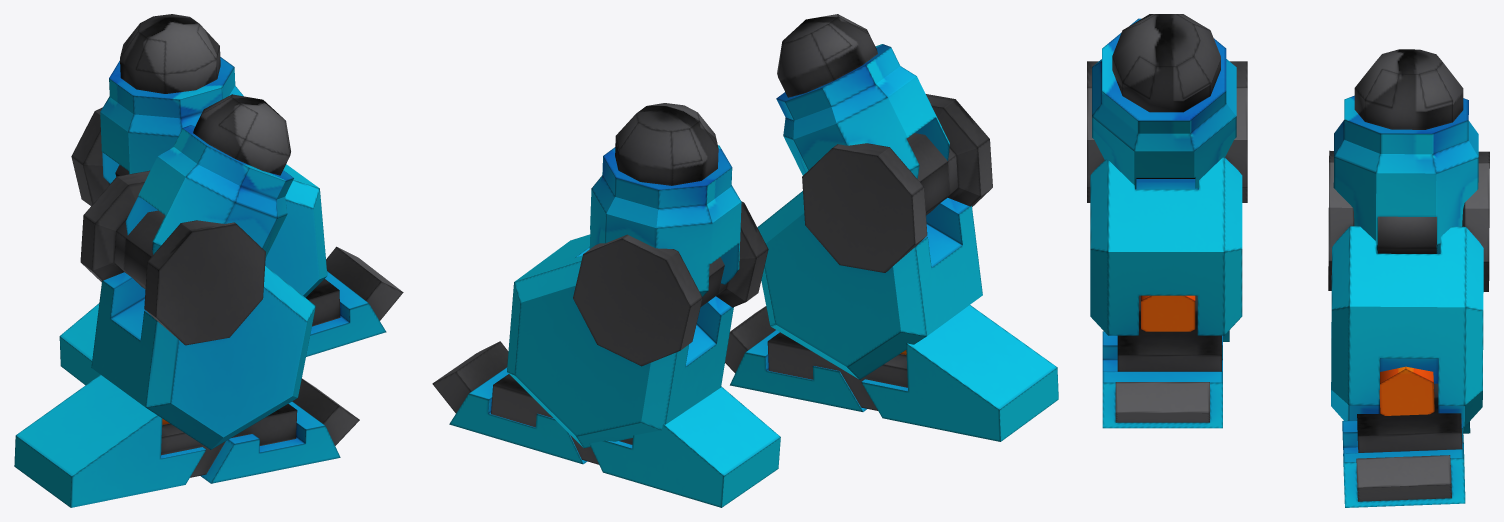
File: Bottom_Idle1.obj
The picture shows the model from 3 angles, left to right: view 1: azimuth 30°, elevation 25°; view 2: azimuth 150°, elevation 25°; view 3: azimuth 270°, elevation 25°; orthographic projection. The views are drawn at different scales.
Visible parts, largest first — view 1: Object013, Object014, Object012, Object009, Object011, Object010; view 2: Object013, Object010, Object014, Object011, Object009, Object012; view 3: Object010, Object013, Object009, Object012, Object014, Object011.
Boxes of the visible parts, x1=… form: Object013: x1=80, y1=170, x2=315, y2=449; Object014: x1=14, y1=374, x2=359, y2=507; Object012: x1=125, y1=94, x2=293, y2=257; Object009: x1=100, y1=14, x2=243, y2=183; Object011: x1=59, y1=246, x2=403, y2=385; Object010: x1=71, y1=107, x2=327, y2=297; Object013: x1=757, y1=94, x2=992, y2=379; Object010: x1=507, y1=201, x2=768, y2=448; Object014: x1=725, y1=305, x2=1058, y2=441; Object011: x1=432, y1=341, x2=780, y2=507; Object009: x1=589, y1=103, x2=741, y2=296; Object012: x1=776, y1=14, x2=949, y2=178; Object010: x1=1328, y1=150, x2=1489, y2=426; Object013: x1=1087, y1=61, x2=1247, y2=335; Object009: x1=1333, y1=49, x2=1478, y2=253; Object012: x1=1092, y1=14, x2=1236, y2=188; Object014: x1=1102, y1=295, x2=1229, y2=428; Object011: x1=1342, y1=366, x2=1470, y2=507.
Size of the model in its own units: 130 by 101 by 94.65.
